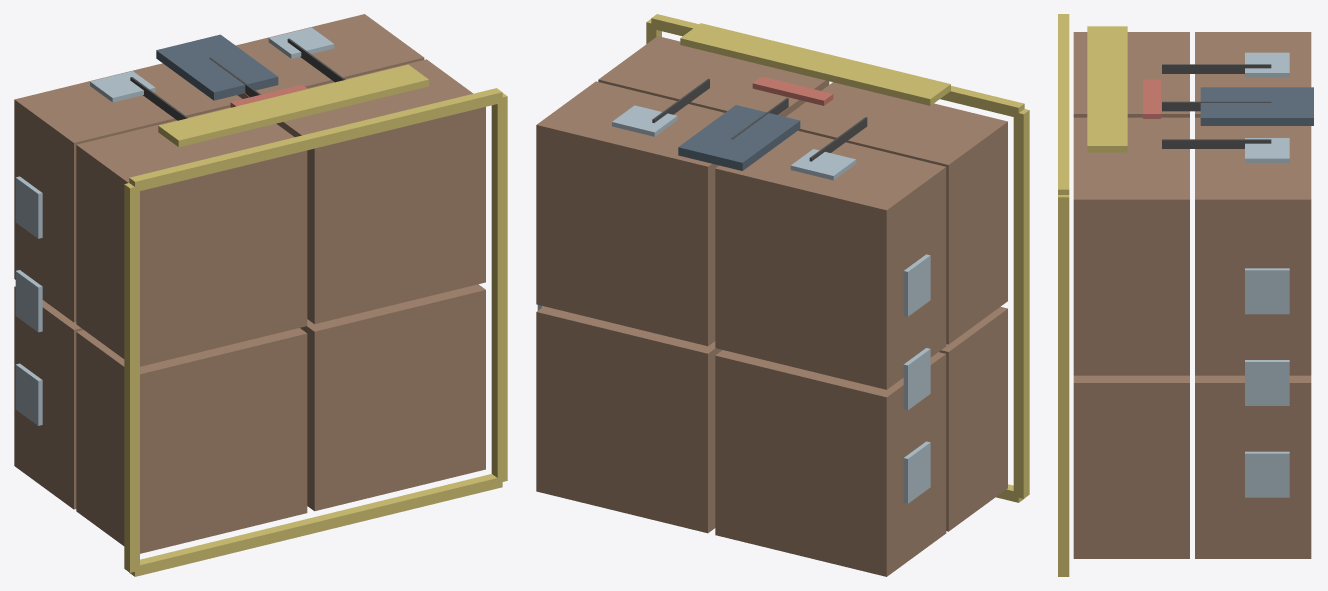
File: building-pawn-shop.glb
3 views of the same model, side by side, from view 1: azimuth 30°, elevation 25°; view 2: azimuth 150°, elevation 25°; view 3: azimuth 270°, elevation 25° (orthographic). The views are drawn at different scales.
Visible parts, largest first — view 1: world; view 2: world; view 3: world.
Part boxes in pixels (x1,y1,x2,y2): world: [14, 14, 507, 576]; world: [536, 14, 1029, 576]; world: [1058, 14, 1313, 576].
Bounding box in the file's own units: 10.56 × 10.99 × 6.32.
